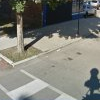crosswalk: (6, 78, 78, 100)
